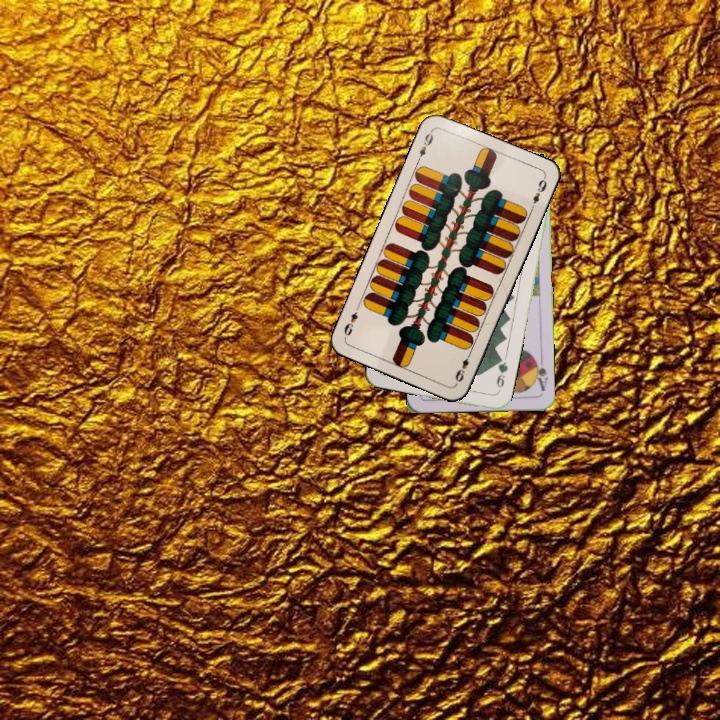E9: (451, 347, 474, 386), (413, 127, 436, 165)
G9: (492, 354, 511, 395)
SA: (530, 354, 550, 393)
